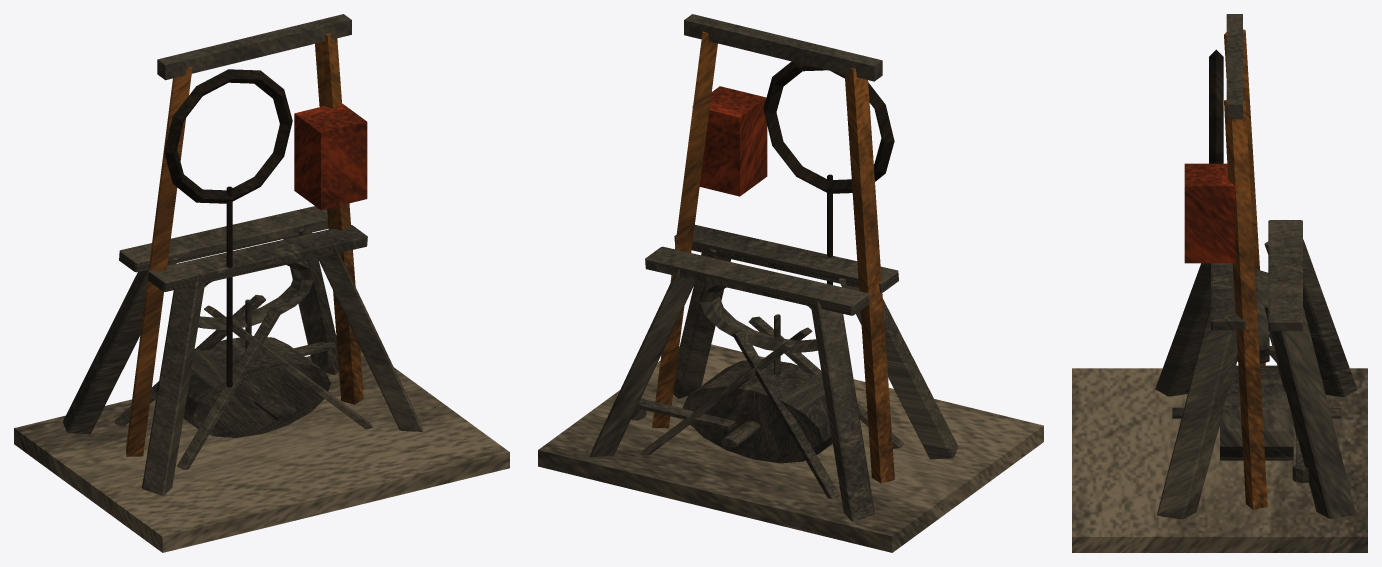
The model's file is west-line-brake-tower.glb.
3 renders of one model, left to right at view 1: azimuth 30°, elevation 25°; view 2: azimuth 150°, elevation 25°; view 3: azimuth 270°, elevation 25°, orthographic. The views are drawn at different scales.
Visible parts, largest first — view 1: west-line-brake-tower; view 2: west-line-brake-tower; view 3: west-line-brake-tower.
Part boxes in pixels (<box>): west-line-brake-tower: <box>14,14,509,552</box>; west-line-brake-tower: <box>538,14,1043,552</box>; west-line-brake-tower: <box>1072,14,1367,552</box>.
Size of the model in its own units: 5.4 by 6.11 by 4.
Materials: 1 (1 with a texture image).
